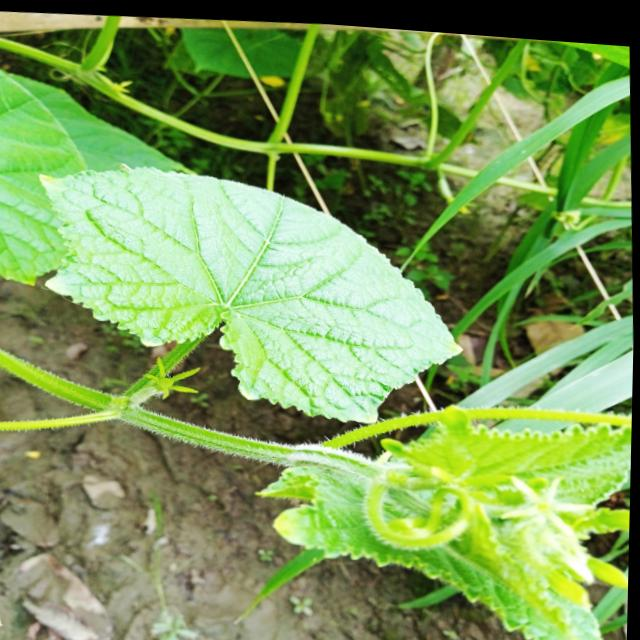Fresh-Leaf: (39, 164, 464, 424)
